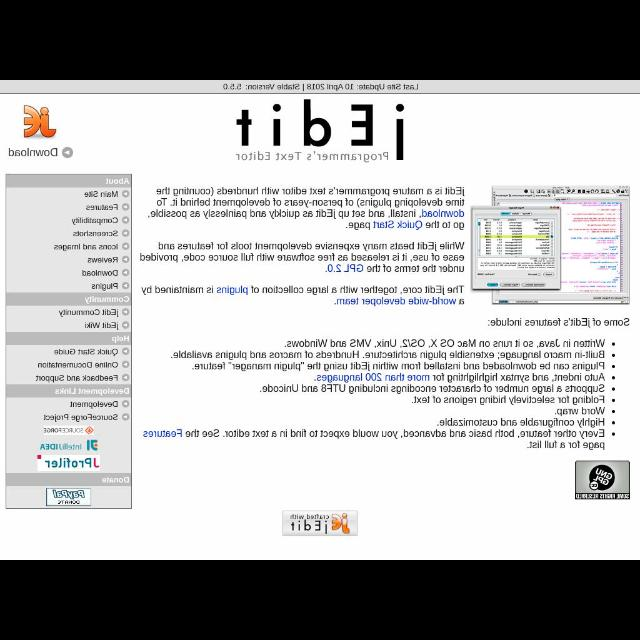icon: (62, 146, 74, 158), (121, 242, 129, 250), (122, 348, 130, 356), (122, 190, 128, 198), (122, 216, 128, 224), (122, 256, 128, 264), (122, 282, 128, 290), (122, 308, 128, 316), (122, 322, 130, 328), (122, 360, 128, 368), (122, 374, 128, 382), (122, 400, 128, 408), (122, 413, 128, 421), (122, 203, 128, 210), (122, 230, 128, 237), (122, 270, 128, 276)
image: (492, 186, 630, 304), (472, 206, 560, 290), (575, 460, 629, 500), (282, 512, 358, 536), (24, 106, 56, 138), (38, 456, 100, 472), (47, 488, 91, 506), (43, 425, 93, 435), (86, 440, 98, 450)
text: (143, 339, 615, 451), (149, 187, 465, 230), (236, 100, 404, 162), (139, 242, 465, 272), (142, 286, 464, 306), (488, 317, 630, 328), (223, 84, 419, 90), (35, 375, 117, 383), (55, 388, 129, 396), (44, 414, 118, 422), (54, 244, 118, 252), (54, 348, 118, 356), (38, 362, 118, 368), (59, 309, 118, 317), (8, 148, 58, 156), (71, 218, 117, 226), (85, 296, 129, 304), (70, 402, 118, 408), (84, 190, 118, 198), (85, 322, 119, 330), (74, 231, 118, 237), (92, 282, 118, 292), (40, 444, 81, 450), (82, 270, 118, 276), (102, 476, 128, 484), (86, 204, 118, 210), (88, 257, 118, 263), (105, 178, 128, 185), (112, 335, 128, 343)
